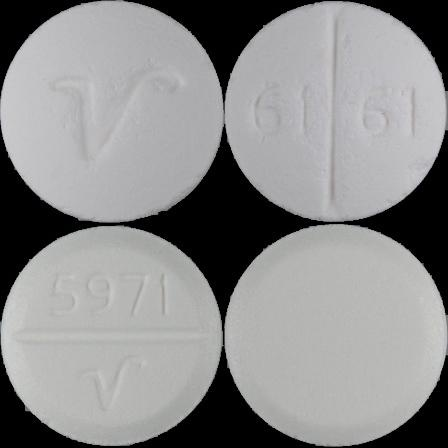0603-6161: (0, 0, 224, 224)
